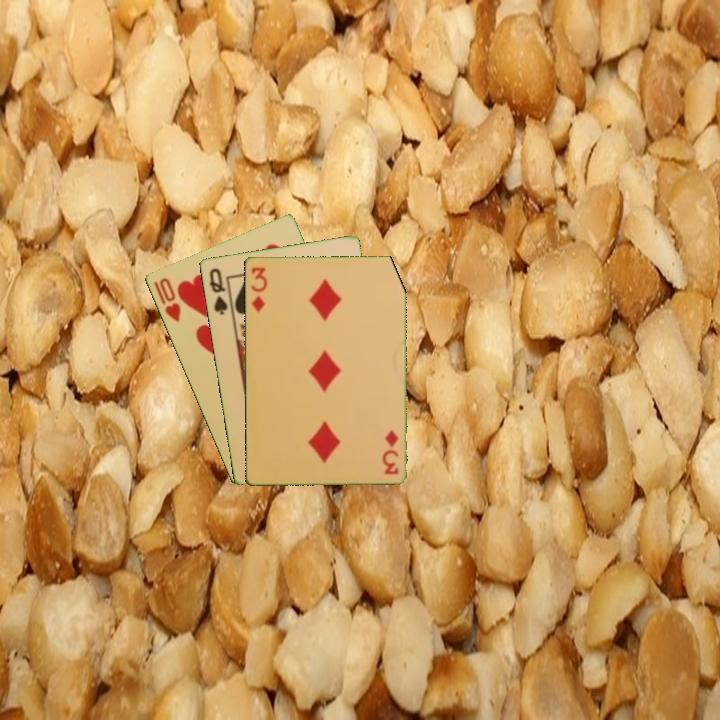10h: (150, 274, 183, 325)
3d: (247, 264, 270, 315), (380, 426, 401, 477)
Qs: (205, 264, 230, 318)
